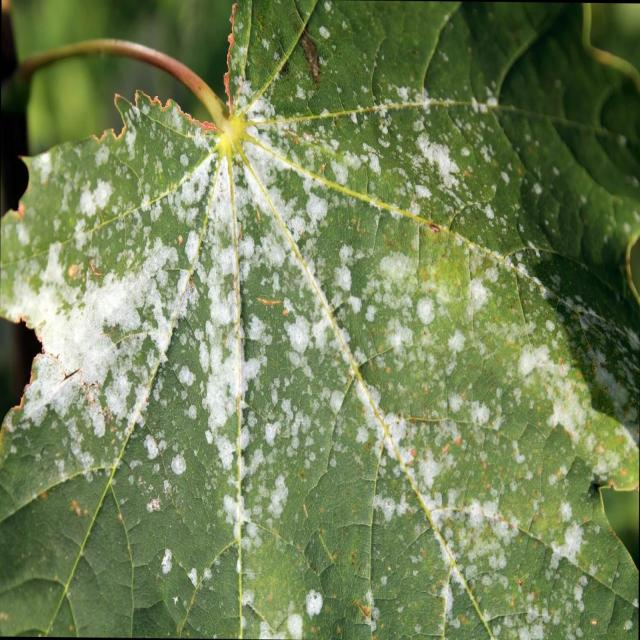Powdery Mildew: (1, 1, 638, 638)
